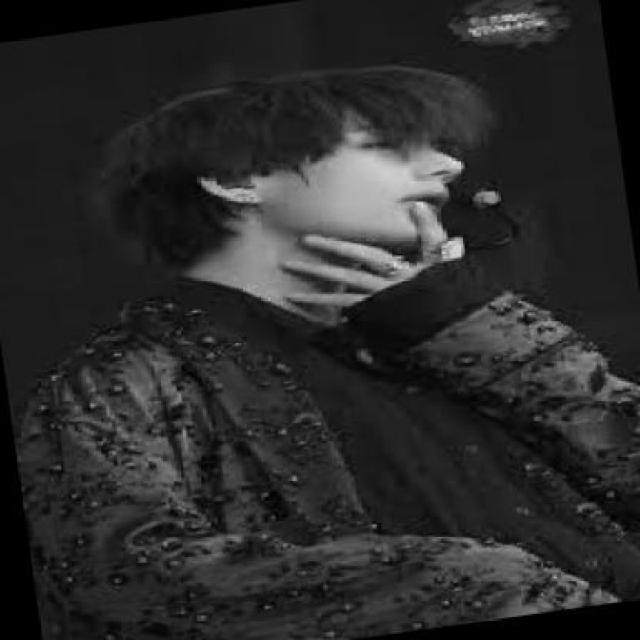earphone: (214, 161, 289, 207)
